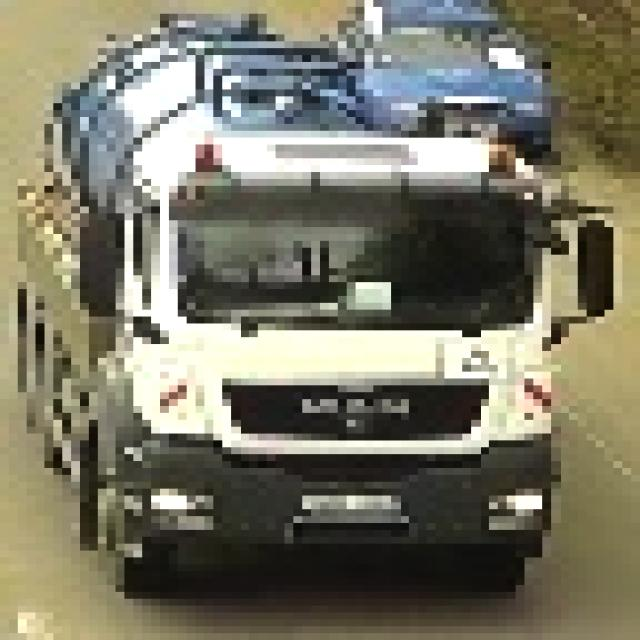truck: (1, 1, 614, 599)
